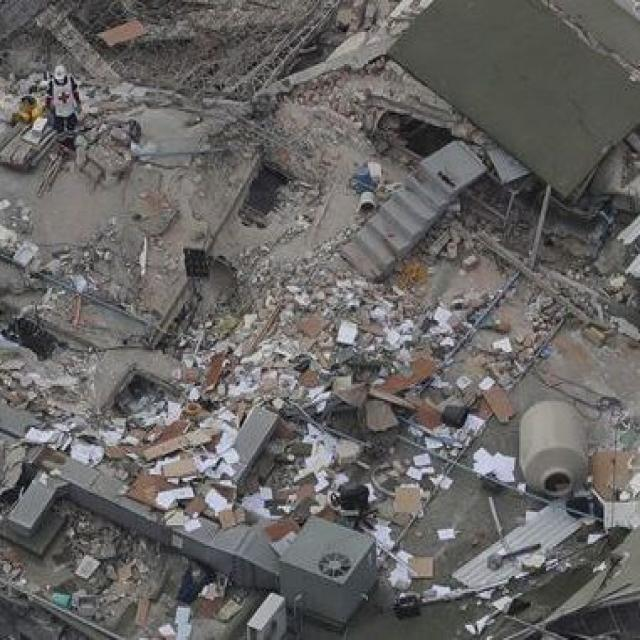collapsed_building: (2, 149, 638, 587)
